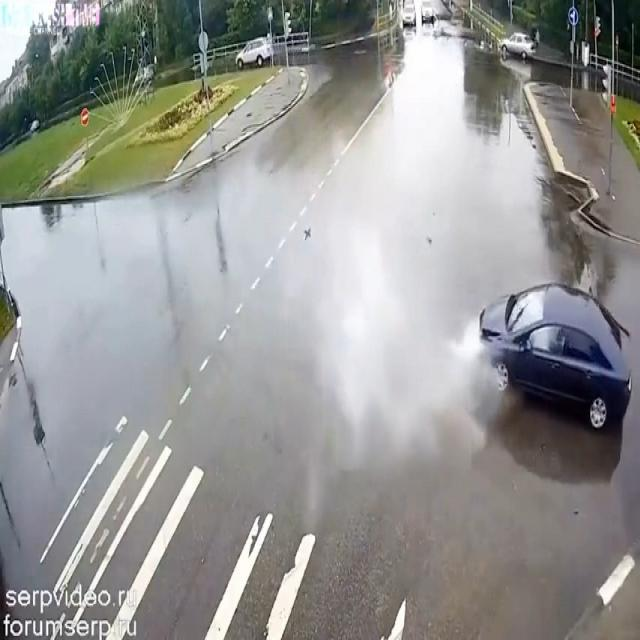Accident: (445, 244, 640, 491)
